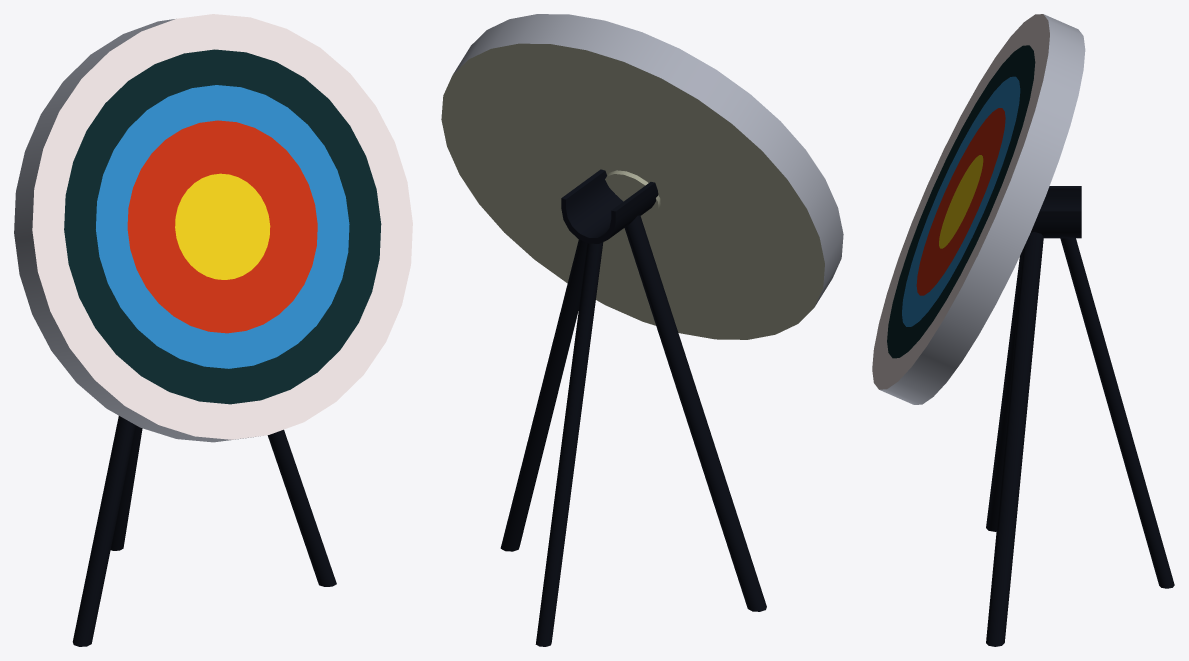
The model's file is target.fbx.
3 views of the same model, side by side, from view 1: azimuth 30°, elevation 25°; view 2: azimuth 150°, elevation 25°; view 3: azimuth 270°, elevation 25° (orthographic). The views are drawn at different scales.
Visible parts, largest first — view 1: target_1, target_2; view 2: target_1, target_2; view 3: target_1, target_2.
Boxes of the visible parts, box(x1,y1,x2,y2) form: target_1: box(14, 14, 412, 442); target_2: box(72, 416, 336, 646); target_1: box(441, 14, 843, 339); target_2: box(500, 169, 766, 646); target_1: box(872, 14, 1085, 404); target_2: box(986, 186, 1174, 646).
Bounding box in the file's own units: 102 × 151 × 75.05.
